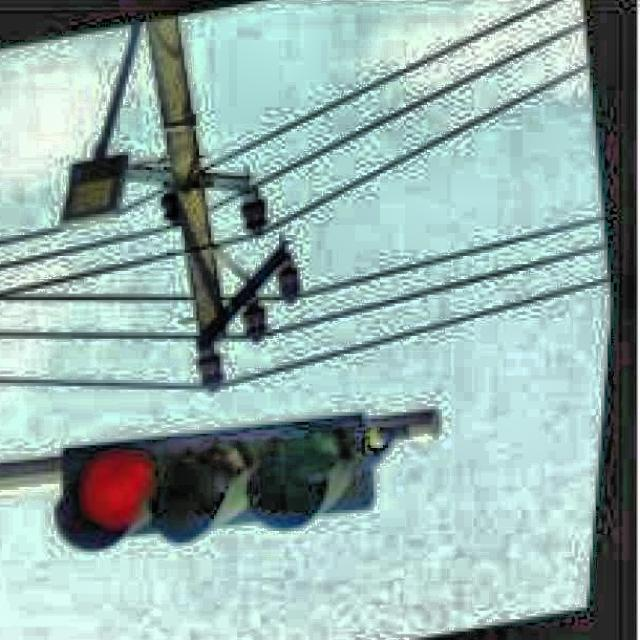red: (59, 407, 374, 555)
